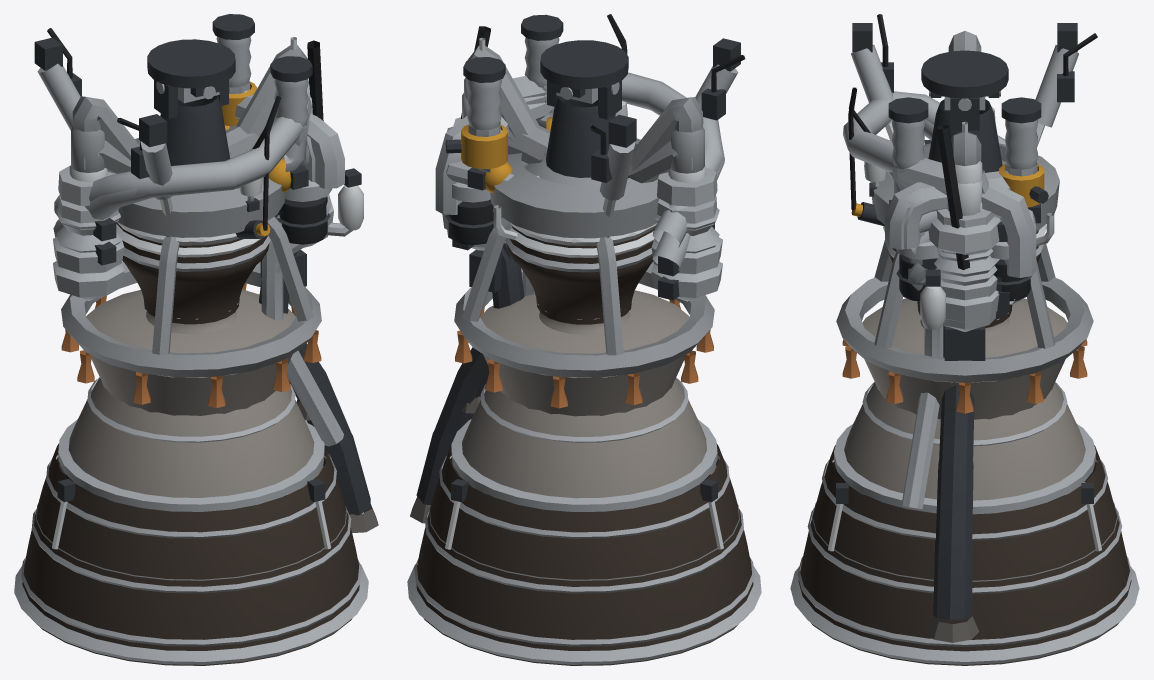
The model's file is engine_s.glb.
The picture shows the model from 3 angles, left to right: view 1: azimuth 30°, elevation 25°; view 2: azimuth 150°, elevation 25°; view 3: azimuth 270°, elevation 25°; orthographic projection.
Visible parts, largest first — view 1: slot_nozzleExt__ablative, slot_contour__aerospike, slot_contour, slot_cycle__ffsc, slot_cycle__sc_fuel, slot_cycle, gimbal_block, slot_chamber__ablative, slot_nozzleExt, actuators, ducts, slot_cycle__electric (+7 smaller); view 2: slot_nozzleExt__ablative, slot_contour__aerospike, slot_contour, slot_cycle__sc_fuel, slot_cycle__ffsc, gimbal_block, slot_chamber__ablative, slot_cycle, slot_nozzleExt, actuators, ducts, slot_cycle__sc (+7 smaller); view 3: slot_nozzleExt__ablative, slot_contour__aerospike, slot_contour, slot_cycle, slot_cycle__sc, slot_cycle__ffsc, gimbal_block, actuators, slot_nozzleExt, slot_cycle__electric, ducts, slot_cycle__sc_fuel (+4 smaller).
Boxes of the visible parts, left/top/right/bottom form: slot_nozzleExt__ablative: left=21, top=443, right=361, bottom=665; slot_contour__aerospike: left=61, top=216, right=321, bottom=415; slot_contour: left=58, top=311, right=324, bottom=511; slot_cycle__ffsc: left=53, top=45, right=342, bottom=443; slot_cycle__sc_fuel: left=53, top=87, right=327, bottom=300; slot_cycle: left=229, top=82, right=378, bottom=532; gimbal_block: left=147, top=39, right=235, bottom=165; slot_chamber__ablative: left=116, top=222, right=270, bottom=324; slot_nozzleExt: left=14, top=464, right=368, bottom=665; actuators: left=34, top=28, right=172, bottom=236; ducts: left=212, top=14, right=312, bottom=126; slot_cycle__electric: left=260, top=40, right=332, bottom=291; slot_nozzleExt__ablative: left=414, top=443, right=754, bottom=665; slot_contour__aerospike: left=454, top=217, right=714, bottom=416; slot_contour: left=451, top=311, right=717, bottom=511; slot_cycle__sc_fuel: left=447, top=89, right=724, bottom=301; slot_cycle__ffsc: left=453, top=46, right=723, bottom=276; gimbal_block: left=540, top=40, right=628, bottom=177; slot_chamber__ablative: left=505, top=226, right=655, bottom=324; slot_cycle: left=410, top=75, right=546, bottom=523; slot_nozzleExt: left=407, top=464, right=761, bottom=665; actuators: left=590, top=38, right=745, bottom=237; ducts: left=463, top=14, right=563, bottom=130; slot_cycle__sc: left=435, top=88, right=553, bottom=295; slot_nozzleExt__ablative: left=797, top=445, right=1132, bottom=665; slot_contour__aerospike: left=836, top=240, right=1093, bottom=419; slot_contour: left=834, top=318, right=1095, bottom=514; slot_cycle: left=885, top=158, right=1036, bottom=642; slot_cycle__sc: left=892, top=163, right=1037, bottom=508; slot_cycle__ffsc: left=843, top=31, right=1008, bottom=507; gimbal_block: left=921, top=50, right=1008, bottom=172; actuators: left=851, top=14, right=1097, bottom=147; slot_nozzleExt: left=790, top=482, right=1139, bottom=665; slot_cycle__electric: left=896, top=125, right=1031, bottom=360; ducts: left=888, top=97, right=1041, bottom=169; slot_cycle__sc_fuel: left=867, top=96, right=1059, bottom=331.
Bounding box in the file's own units: 1.07 × 1.65 × 0.9933.
